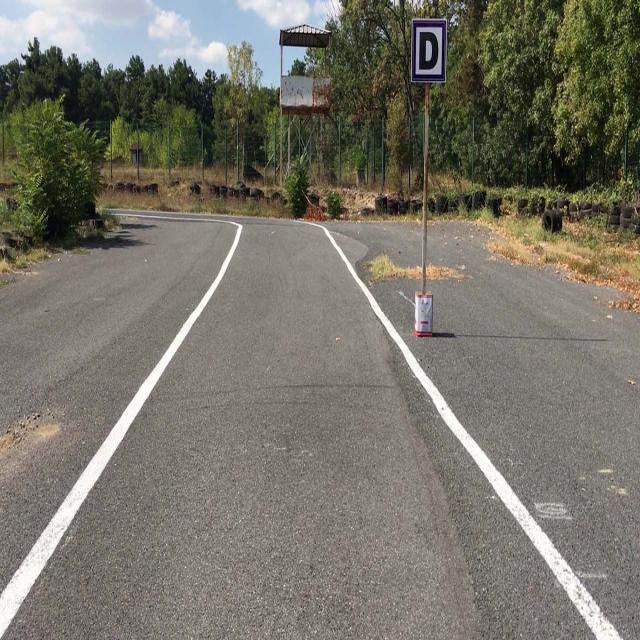durak: (411, 18, 445, 82)
